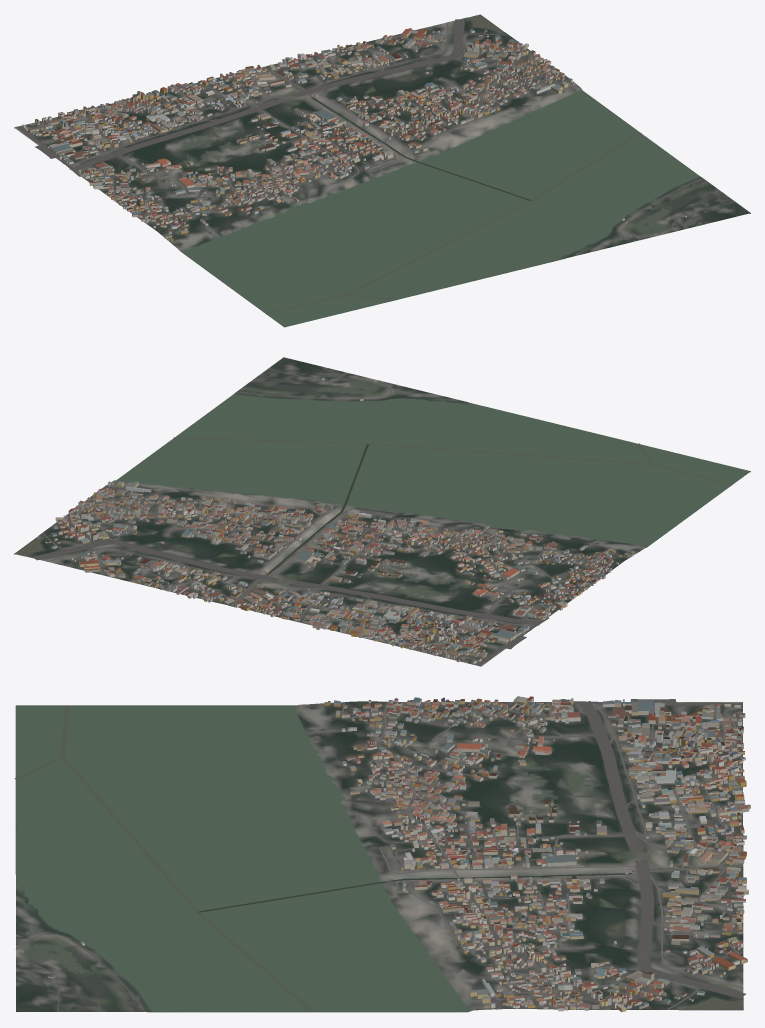
3 renders of one model, top to bottom at view 1: azimuth 30°, elevation 25°; view 2: azimuth 150°, elevation 25°; view 3: azimuth 270°, elevation 25°, orthographic. The views are drawn at different scales.
Visible parts, largest first — view 1: water, ground, buildings, roads; view 2: water, ground, buildings, roads; view 3: water, ground, buildings, roads.
Part boxes in pixels (x1,y1,x2,y2): water: (182,14,699,326); ground: (14,15,750,327); buildings: (22,28,686,241); roads: (15,19,735,236); water: (15,380,749,606); ground: (14,357,750,666); buildings: (45,377,634,663); roads: (33,368,628,666); water: (14,705,742,1012); ground: (15,701,743,1012); buildings: (48,696,750,1012); roads: (15,699,745,1011).
Bounding box in the file's own units: 1423 × 36.48 × 1420.
